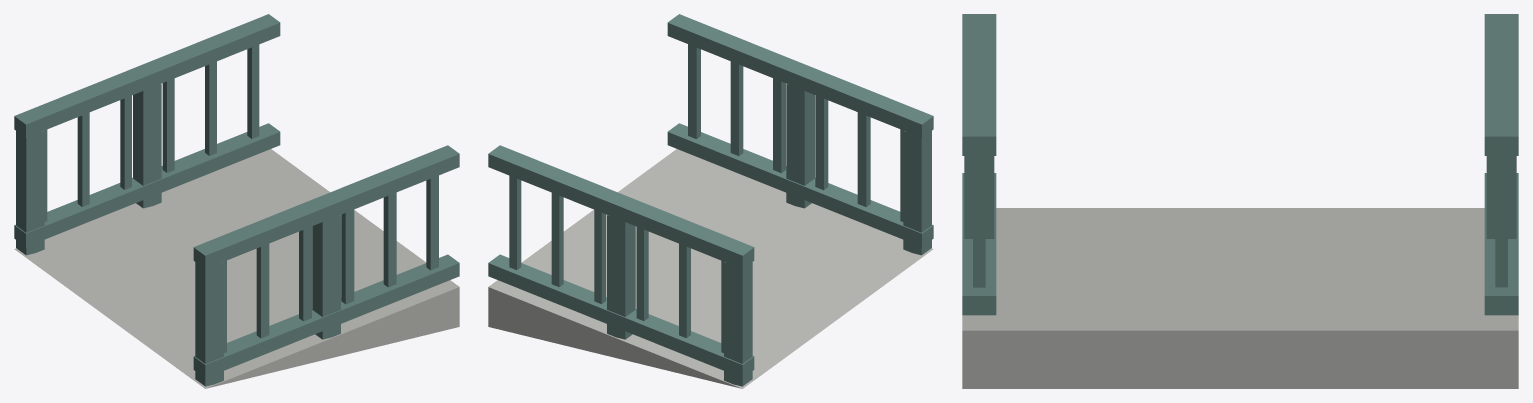
The model's file is bridge_abutment_03.glb.
The picture shows the model from 3 angles, left to right: view 1: azimuth 30°, elevation 25°; view 2: azimuth 150°, elevation 25°; view 3: azimuth 270°, elevation 25°; orthographic projection. The views are drawn at different scales.
Parts seen in each view (by area): view 1: Bridge_abutment_03; view 2: Bridge_abutment_03; view 3: Bridge_abutment_03.
Boxes of the visible parts, <box> form: Bridge_abutment_03: <box>14,14,459,388</box>; Bridge_abutment_03: <box>488,14,933,388</box>; Bridge_abutment_03: <box>962,14,1518,388</box>.
Bounding box in the file's own units: 2 × 1.3 × 2.6.
